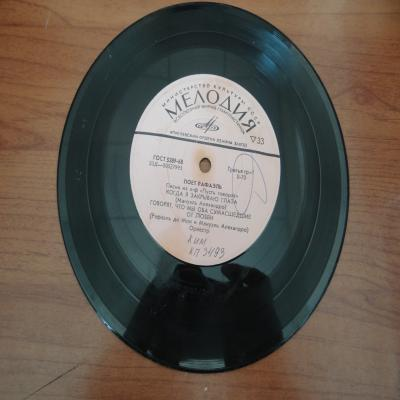other: (57, 2, 349, 375)
